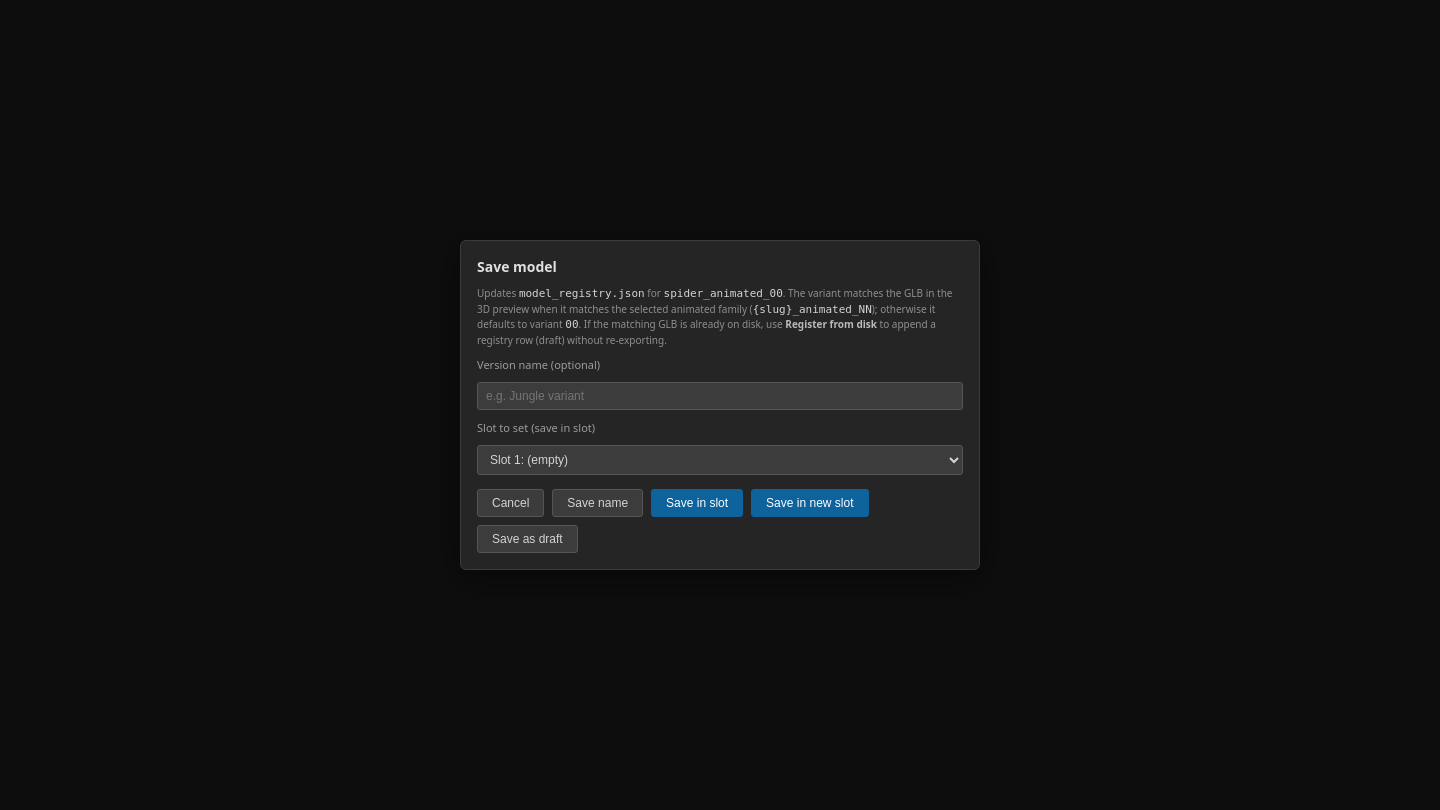
it: SaveModelModal › registry-fix-versions-slots-load R3: Save in new slot shows draft error and does not PUT
Click the button "Save in new slot" at point(810, 503), box [751,489,868,517]
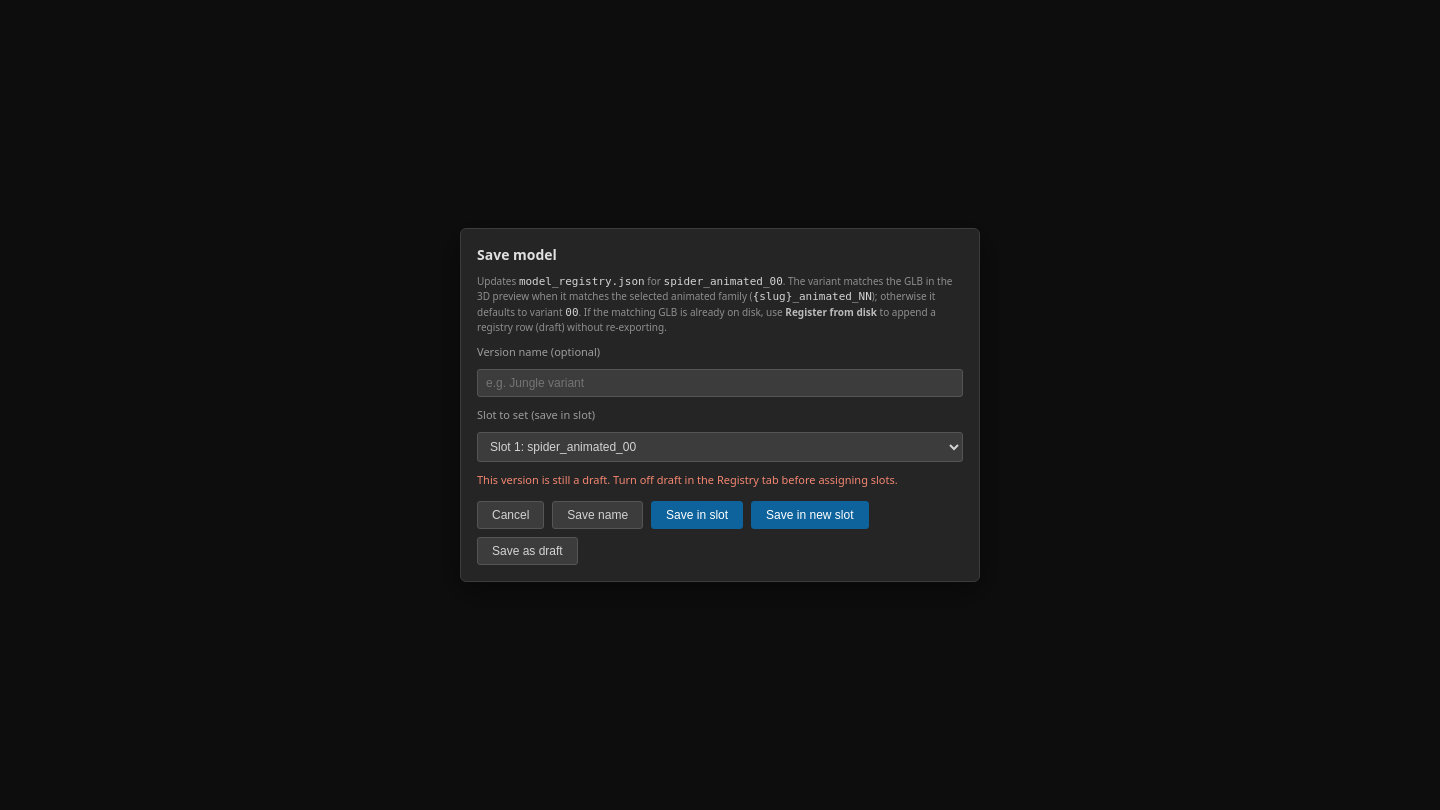
Expected: the message shows "draft", [477,472,898,487]
